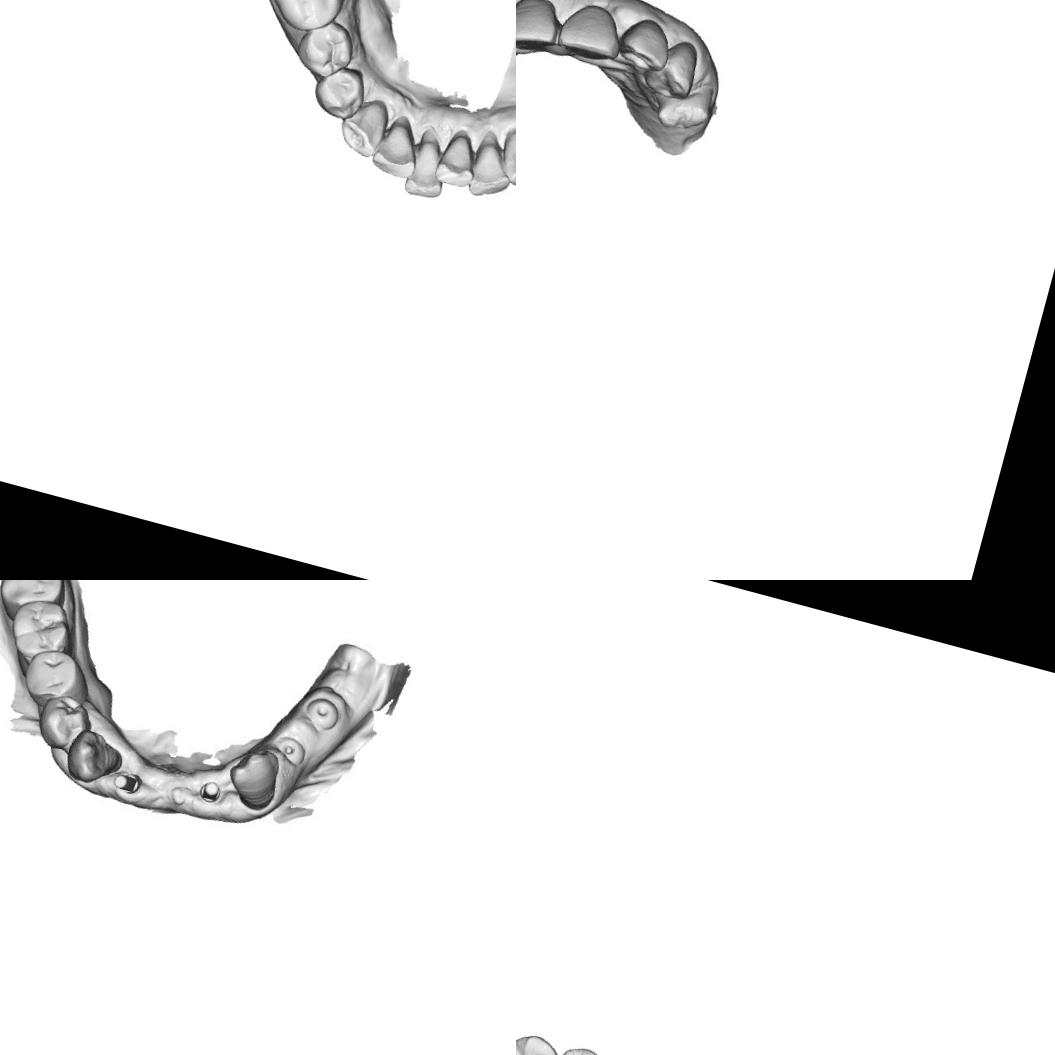abutment: (188, 768, 228, 808), (106, 763, 144, 800)
canine: (218, 740, 288, 814), (639, 31, 706, 106), (333, 91, 393, 161), (61, 728, 125, 789), (492, 125, 516, 192)
implant: (300, 688, 345, 736), (271, 727, 314, 771)
incisor: (550, 0, 628, 65), (611, 10, 677, 78), (400, 122, 456, 202), (367, 109, 428, 182), (464, 125, 516, 203), (431, 124, 484, 190), (516, 0, 568, 60)
molar: (7, 593, 68, 660), (258, 0, 356, 39), (0, 580, 67, 608)
premolar: (289, 12, 361, 84), (308, 58, 370, 123), (36, 689, 94, 752), (17, 644, 79, 702)
